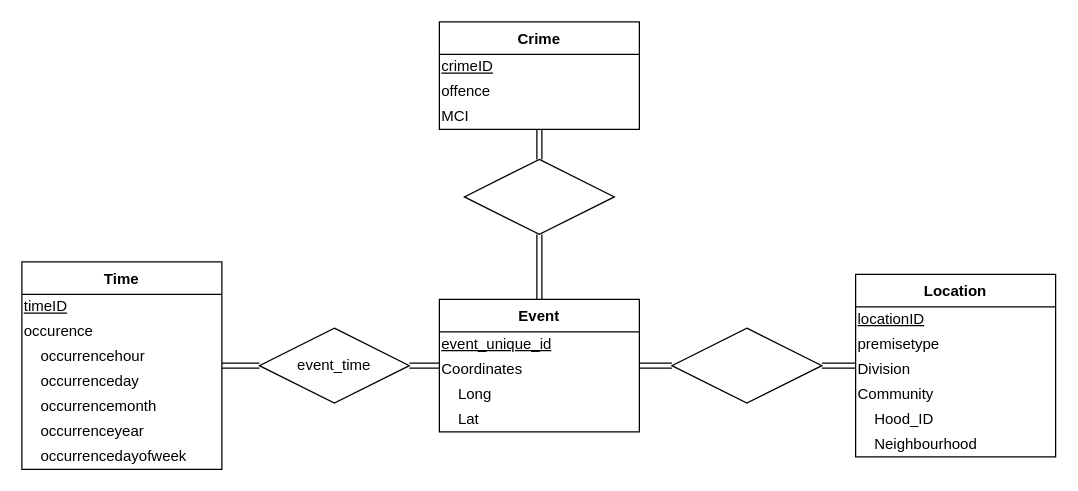
This 1078x491 diagram has some shape labels left out. Here are the shapes that lost their labels. From the top down, the centre of each, then its label:
At [538,196]: "event_crime".
At [746,365]: "event_location".
